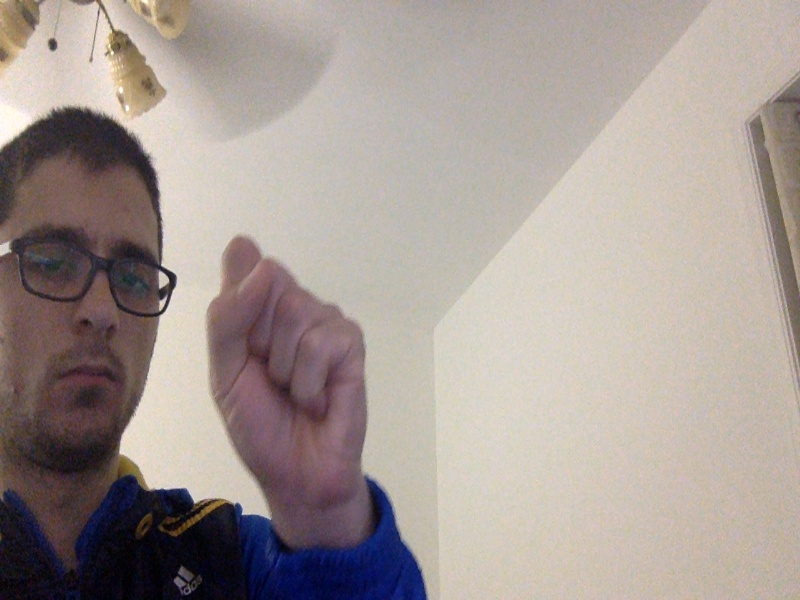0-hand: (204, 237, 369, 504)
